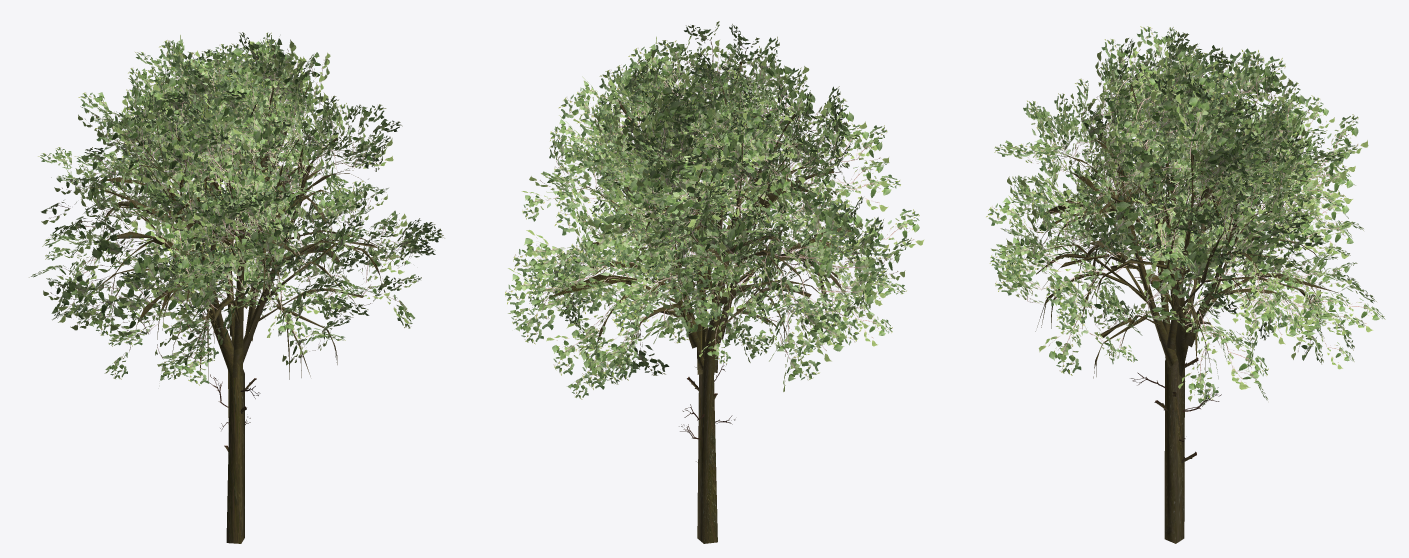
File: TreeLOD1.fbx
3 renders of one model, left to right at view 1: azimuth 30°, elevation 25°; view 2: azimuth 150°, elevation 25°; view 3: azimuth 270°, elevation 25°, orthographic.
Visible parts, largest first — view 1: Plane.029; view 2: Plane.029; view 3: Plane.029.
Boxes of the visible parts, left/top/right/bottom form: Plane.029: left=29, top=32, right=444, bottom=543; Plane.029: left=505, top=21, right=924, bottom=543; Plane.029: left=986, top=26, right=1385, bottom=543.
Size of the model in its own units: 758 by 1016 by 760.
